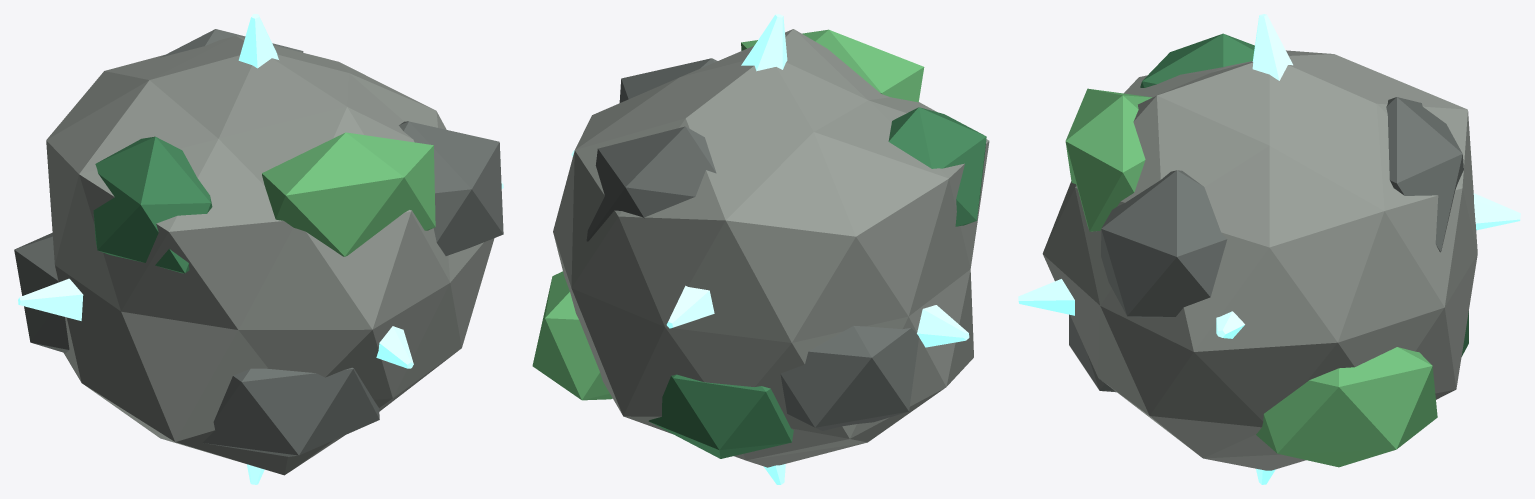
Rendered from MossbackBoulder.glb.
The picture shows the model from 3 angles, left to right: view 1: azimuth 30°, elevation 25°; view 2: azimuth 150°, elevation 25°; view 3: azimuth 270°, elevation 25°; orthographic projection.
Visible parts, largest first — view 1: MossbackBoulder; view 2: MossbackBoulder; view 3: MossbackBoulder.
Part boxes in pixels (left/top/right/bottom): MossbackBoulder: left=14, top=14, right=503, bottom=484; MossbackBoulder: left=532, top=14, right=989, bottom=484; MossbackBoulder: left=1018, top=14, right=1520, bottom=484.
Size of the model in its own units: 6.59 by 6.72 by 6.51.
